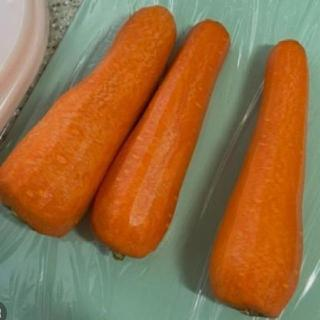carrot: (0, 3, 178, 239), (87, 16, 234, 262), (206, 35, 309, 318)
